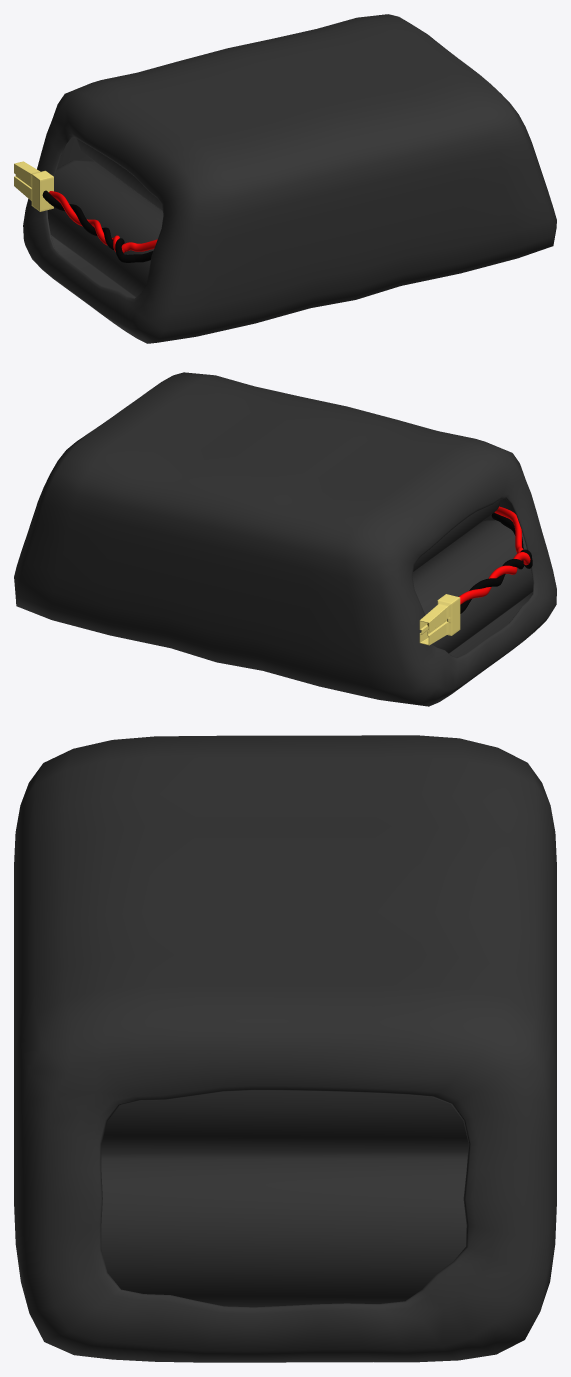
File: Maxamps battery Lipo 40 7v.fbx
3 views of the same model, one above another, from view 1: azimuth 30°, elevation 25°; view 2: azimuth 150°, elevation 25°; view 3: azimuth 270°, elevation 25° (orthographic). The views are drawn at different scales.
Parts seen in each view (by area): view 1: Group010, Box078, Helix009; view 2: Group010, Box078, Helix009; view 3: Group010.
Part boxes in pixels (box(x1,y1,x2,y2)): Group010: box(23, 14, 556, 343); Box078: box(14, 161, 53, 211); Helix009: box(49, 191, 157, 253); Group010: box(14, 372, 556, 706); Box078: box(419, 594, 460, 645); Helix009: box(459, 506, 530, 604); Group010: box(14, 735, 556, 1362).
Size of the model in its own units: 9.55 by 3.8 by 5.8.
